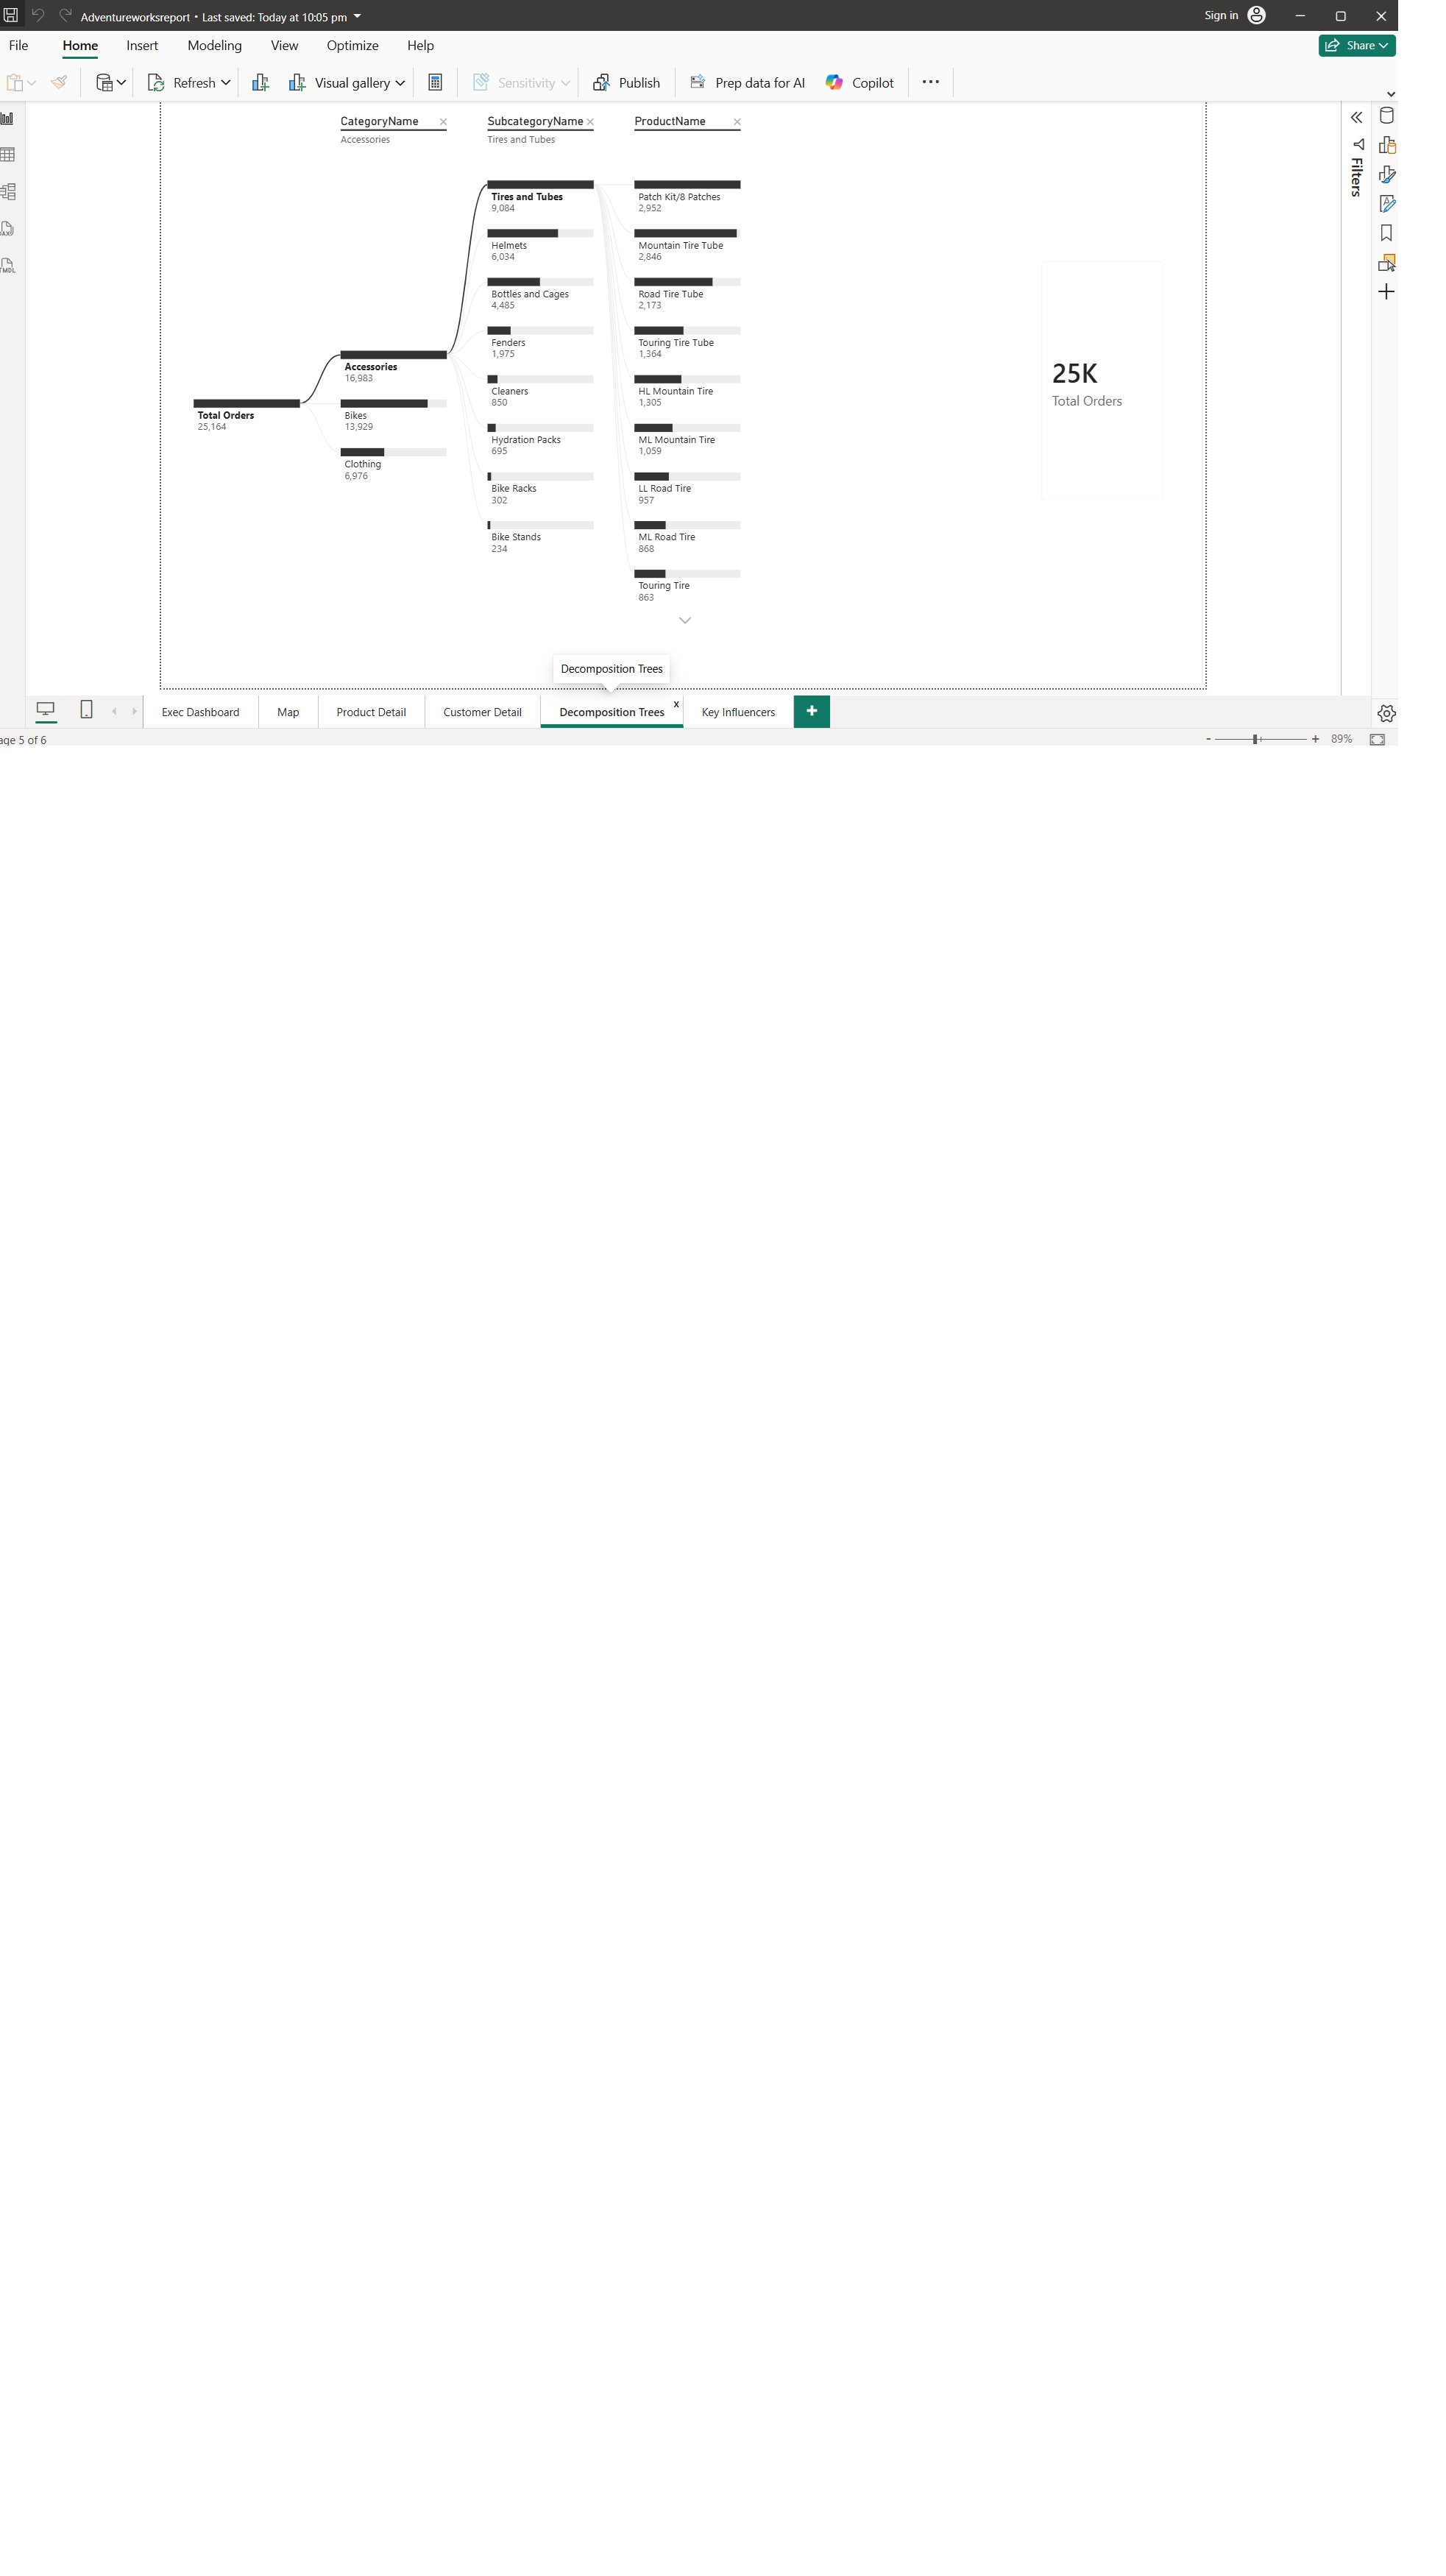

What the dashboard file says about the page in this screenshot:
{"tool":"powerbi","page":{"name":"Decomposition Trees","canvas":[1280,720],"ordinal":4},"visuals":[{"type":"decompositionTreeVisual","fields":{"Analyze":["Measure Table.Total Orders"],"ExplainBy":["Product Categories Lookup.CategoryName","Product Subcategories Lookup.SubcategoryName","Product Lookup.ProductName"]},"box":[10.1,0,939.2,719.9],"z":0},{"type":"cardVisual","fields":{"Data":["Measure Table.Total Orders"]},"box":[1061.9,178.9,183.2,328.9],"z":1}]}

Visuals, with their boxes on the page's 1280x720 design canvas (x1, y1, x2, y2). These are canvas units, not pixel positions in the 1446x2576 screenshot, which may show the page scaled, cropped or inside an application window:
decompositionTreeVisual - Measure Table.Total Orders x Product Categories Lookup.CategoryName: rect(10, 0, 949, 720)
cardVisual - Measure Table.Total Orders: rect(1062, 179, 1245, 508)
